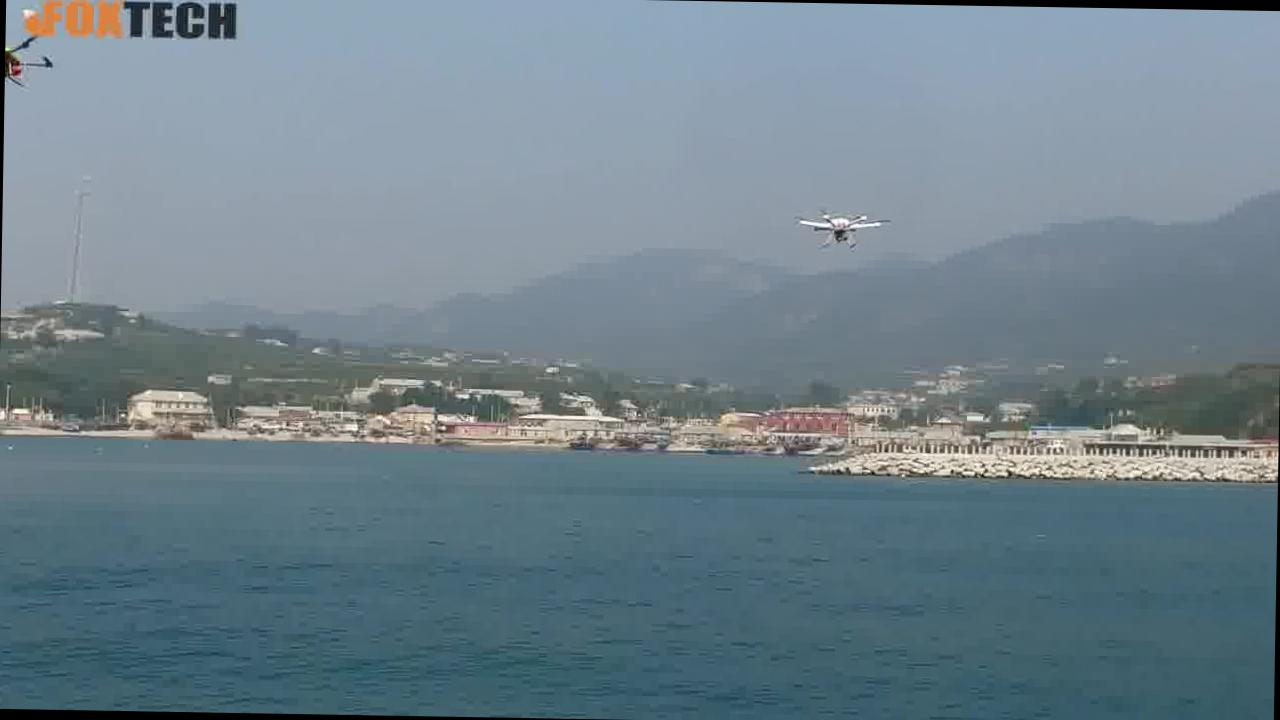drone: (786, 190, 896, 258)
